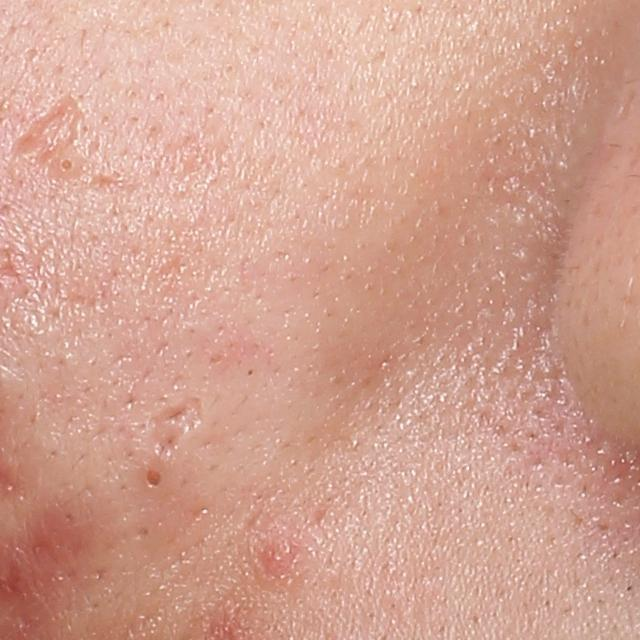atrophic_scar: (5, 92, 86, 165), (145, 394, 207, 463)
comedo: (138, 465, 169, 497), (52, 148, 84, 175)
papule: (260, 540, 299, 569)
